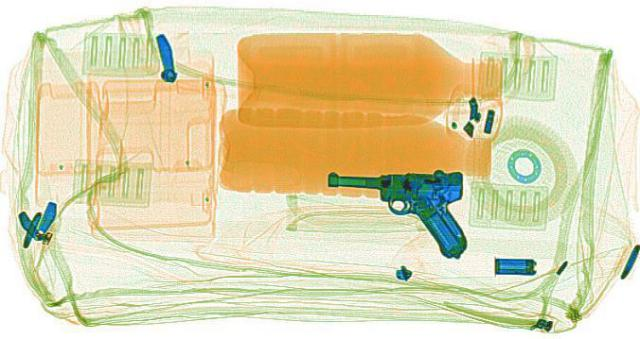Gun: (318, 167, 472, 256)
